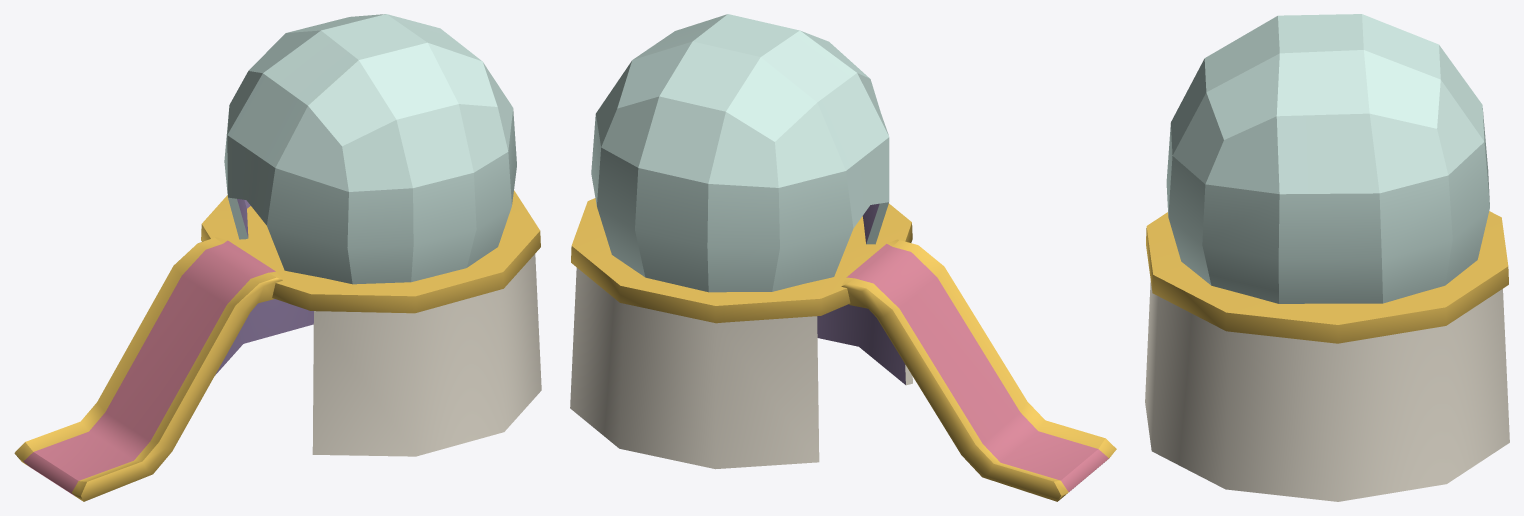
File: Slide.fbx
3 renders of one model, left to right at view 1: azimuth 30°, elevation 25°; view 2: azimuth 150°, elevation 25°; view 3: azimuth 270°, elevation 25°, orthographic. The views are drawn at different scales.
Visible parts, largest first — view 1: Slide; view 2: Slide; view 3: Slide.
Part boxes in pixels (left/top/right/bottom): Slide: left=14, top=14, right=541, bottom=501; Slide: left=570, top=14, right=1116, bottom=501; Slide: left=1145, top=14, right=1509, bottom=501.
Size of the model in its own units: 134 by 79.27 by 95.82.
